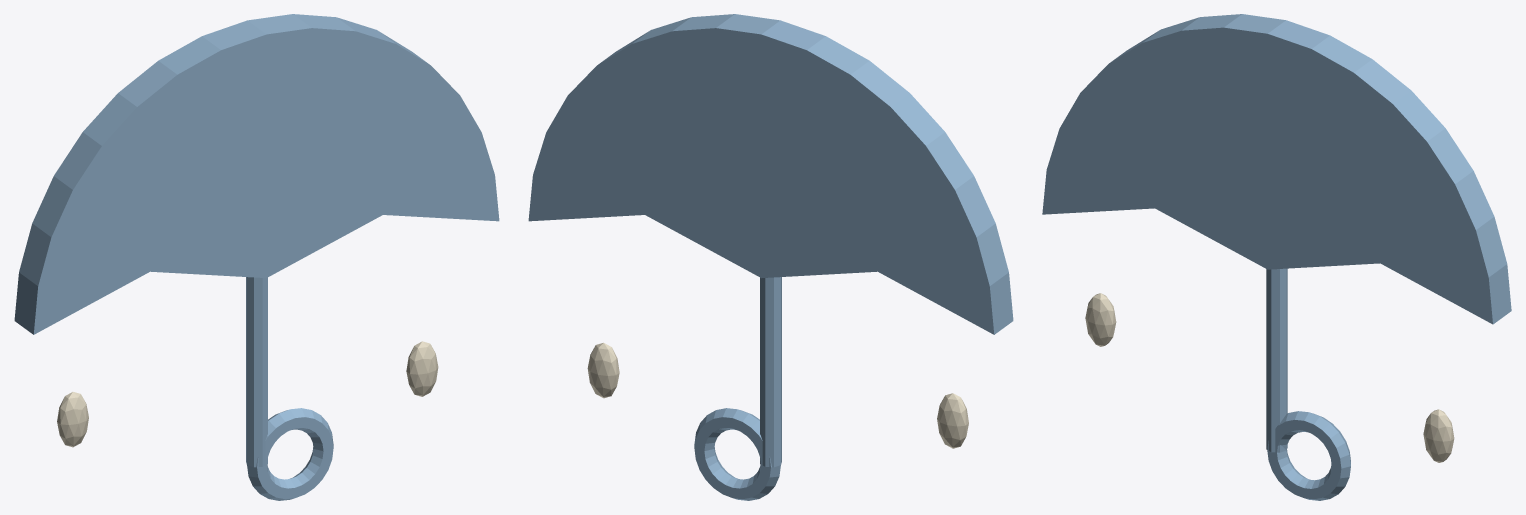
The model's file is rain-train.glb.
The picture shows the model from 3 angles, left to right: view 1: azimuth 30°, elevation 25°; view 2: azimuth 150°, elevation 25°; view 3: azimuth 330°, elevation 25°; orthographic projection. The views are drawn at different scales.
Visible parts, largest first — view 1: Umbrella canopy.001, Umbrella shaft.001, Rain drop.002; view 2: Umbrella canopy.001, Umbrella shaft.001, Rain drop.002; view 3: Umbrella canopy.001, Umbrella shaft.001, Rain drop.002.
Boxes of the visible parts, x1=… form: Umbrella canopy.001: x1=14, y1=14, x2=499, y2=334; Umbrella shaft.001: x1=246, y1=277, x2=333, y2=500; Rain drop.002: x1=57, y1=341, x2=438, y2=447; Umbrella canopy.001: x1=528, y1=14, x2=1013, y2=334; Umbrella shaft.001: x1=694, y1=277, x2=781, y2=500; Rain drop.002: x1=587, y1=342, x2=968, y2=448; Umbrella canopy.001: x1=1042, y1=14, x2=1511, y2=324; Umbrella shaft.001: x1=1266, y1=268, x2=1350, y2=500; Rain drop.002: x1=1085, y1=293, x2=1454, y2=462.
Size of the model in its own units: 0.028 by 0.0276 by 0.002.
